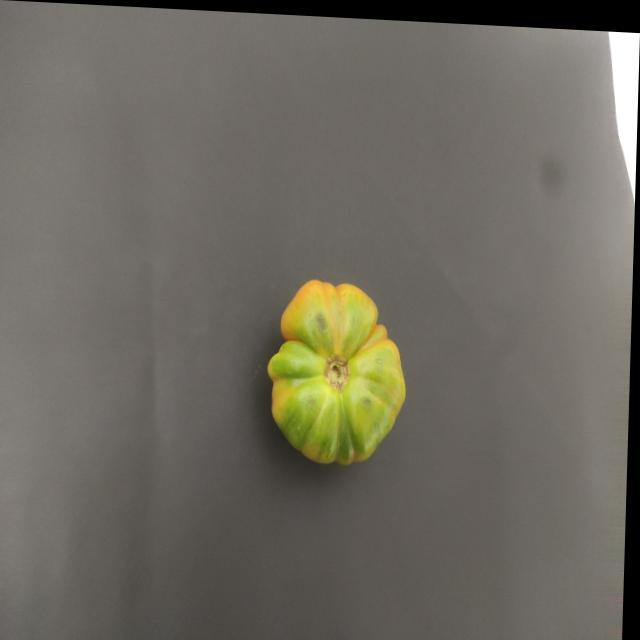yesil: (259, 251, 426, 473)
